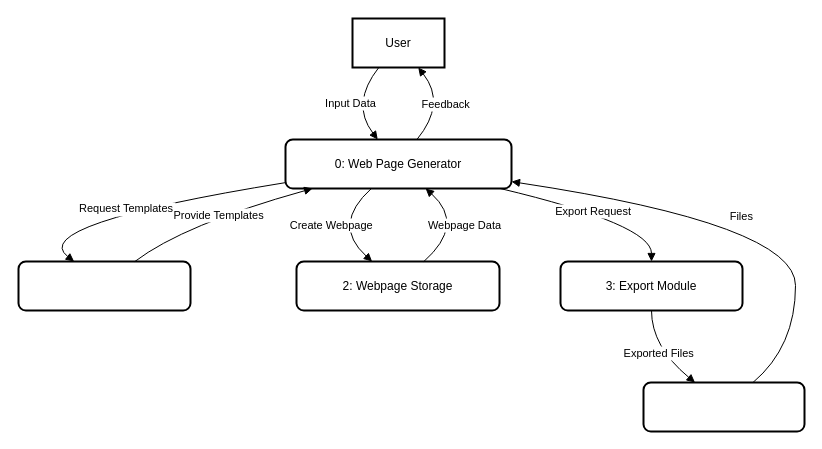
Some shapes in this 822 by 449 pixel diagram are drawn without their labels. Each missing label, with the centre of its shape:
1: Template API: (x=104, y=285)
4: File System: (x=723, y=406)
